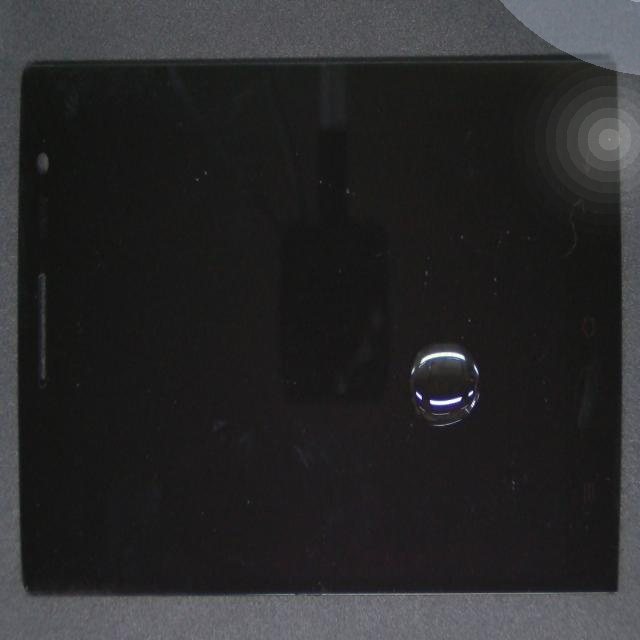oil: (238, 219, 640, 575)
